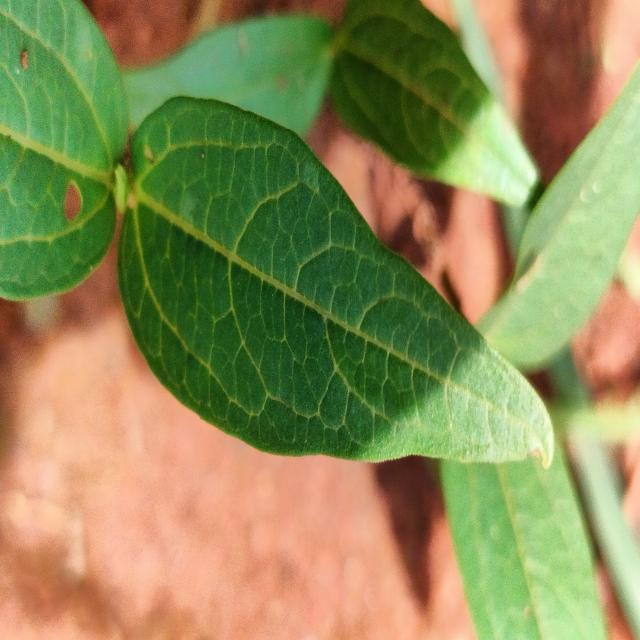Black gram_healthy: (121, 91, 556, 462), (445, 336, 601, 640), (485, 74, 640, 372), (330, 0, 538, 205)
